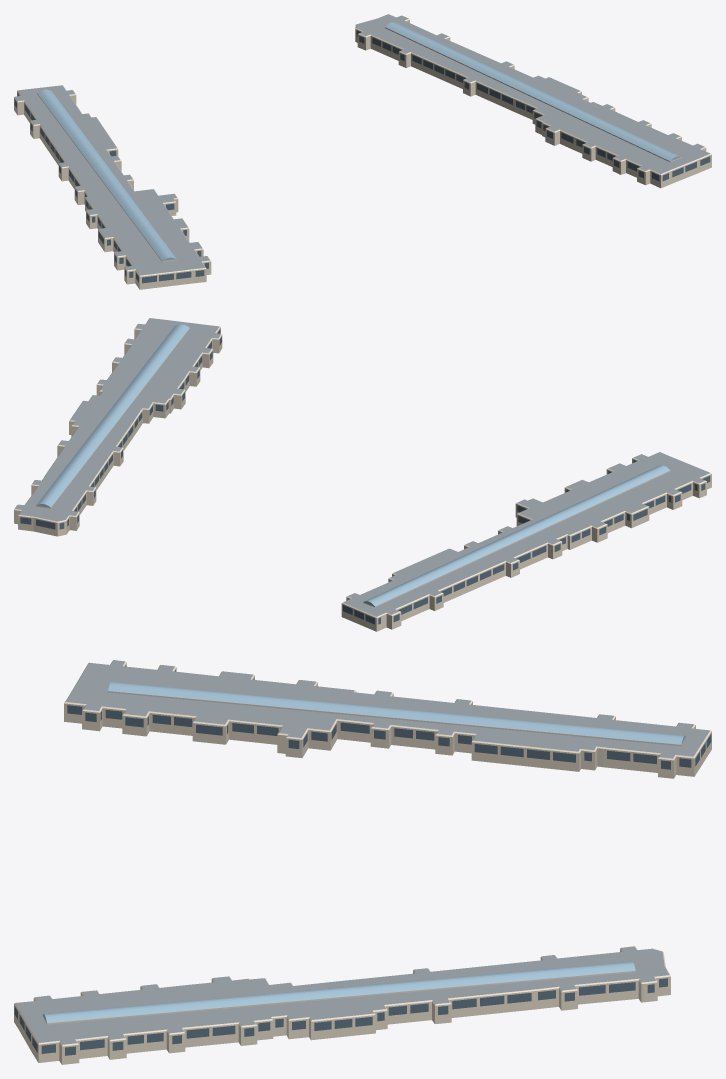
Rendered from clt-concourses-b-c.glb.
The picture shows the model from 3 angles, top to bottom: view 1: azimuth 30°, elevation 25°; view 2: azimuth 150°, elevation 25°; view 3: azimuth 270°, elevation 25°; orthographic projection. The views are drawn at different scales.
Parts seen in each view (by area): view 1: Charlotte Douglas International Airport Concourses B and C; view 2: Charlotte Douglas International Airport Concourses B and C; view 3: Charlotte Douglas International Airport Concourses B and C.
Boxes of the visible parts, x1=… form: Charlotte Douglas International Airport Concourses B and C: x1=14, y1=14, x2=711, y2=289; Charlotte Douglas International Airport Concourses B and C: x1=14, y1=318, x2=711, y2=631; Charlotte Douglas International Airport Concourses B and C: x1=14, y1=660, x2=711, y2=1064.
Bounding box in the file's own units: 339 × 10 × 259.
